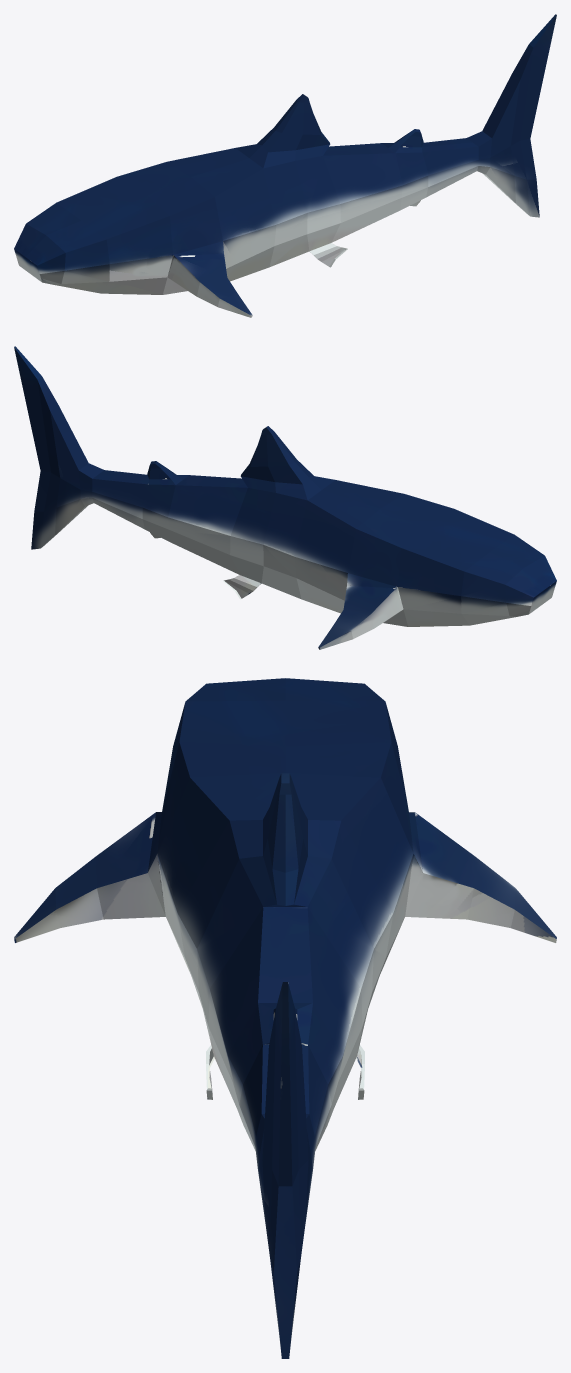
File: whale-shark-final.glb
The picture shows the model from 3 angles, top to bottom: view 1: azimuth 30°, elevation 25°; view 2: azimuth 150°, elevation 25°; view 3: azimuth 270°, elevation 25°; orthographic projection. The views are drawn at different scales.
Parts seen in each view (by area): view 1: Plane; view 2: Plane; view 3: Plane.
Part boxes in pixels (x1,y1,x2,y2): Plane: (14,14,556,317); Plane: (14,346,556,649); Plane: (14,678,556,1358).
Bounding box in the file's own units: 4.67 × 1.67 × 2.08.
Materials: 1 (1 with a texture image).
